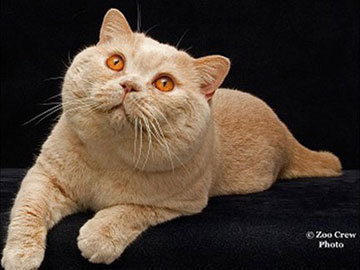British_shorthair: (9, 6, 346, 269)
